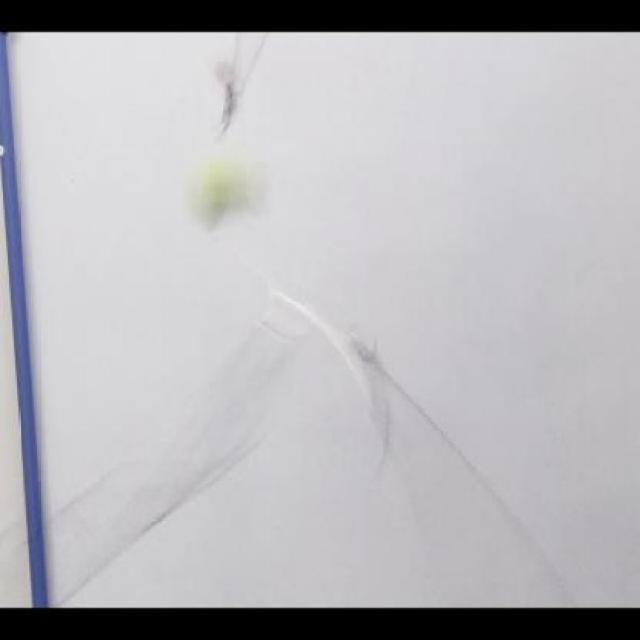baseball: (184, 154, 270, 223)
